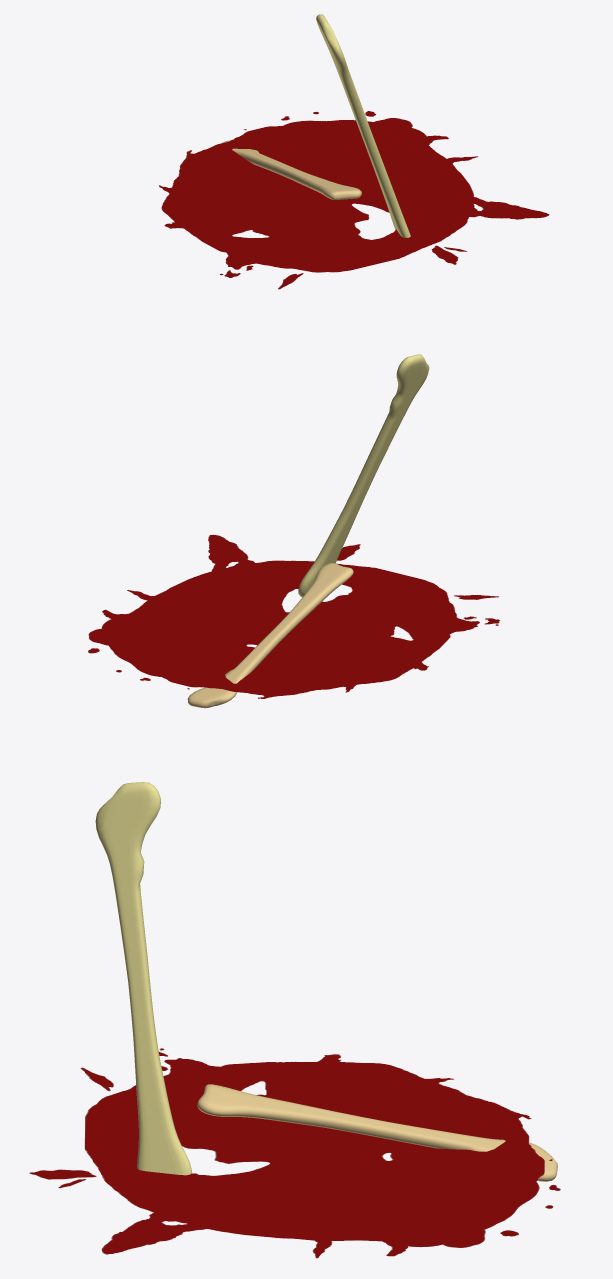
Rendered from BloodStain.fbx.
3 renders of one model, top to bottom at view 1: azimuth 30°, elevation 25°; view 2: azimuth 150°, elevation 25°; view 3: azimuth 270°, elevation 25°, orthographic. The views are drawn at different scales.
Visible parts, largest first — view 1: Plane, Cube, Cube.001; view 2: Plane, Cube, Cube.001; view 3: Plane, Cube, Cube.001.
Part boxes in pixels (x1,y1,x2,y2): Plane: (159,111,549,289); Cube: (316,14,410,237); Cube.001: (222,140,361,199); Plane: (88,534,500,698); Cube: (298,354,429,597); Cube.001: (187,563,353,708); Plane: (29,1048,560,1258); Cube: (95,782,191,1175); Cube.001: (197,1084,557,1181).
Size of the model in its own units: 82.5 by 54.64 by 82.5.
